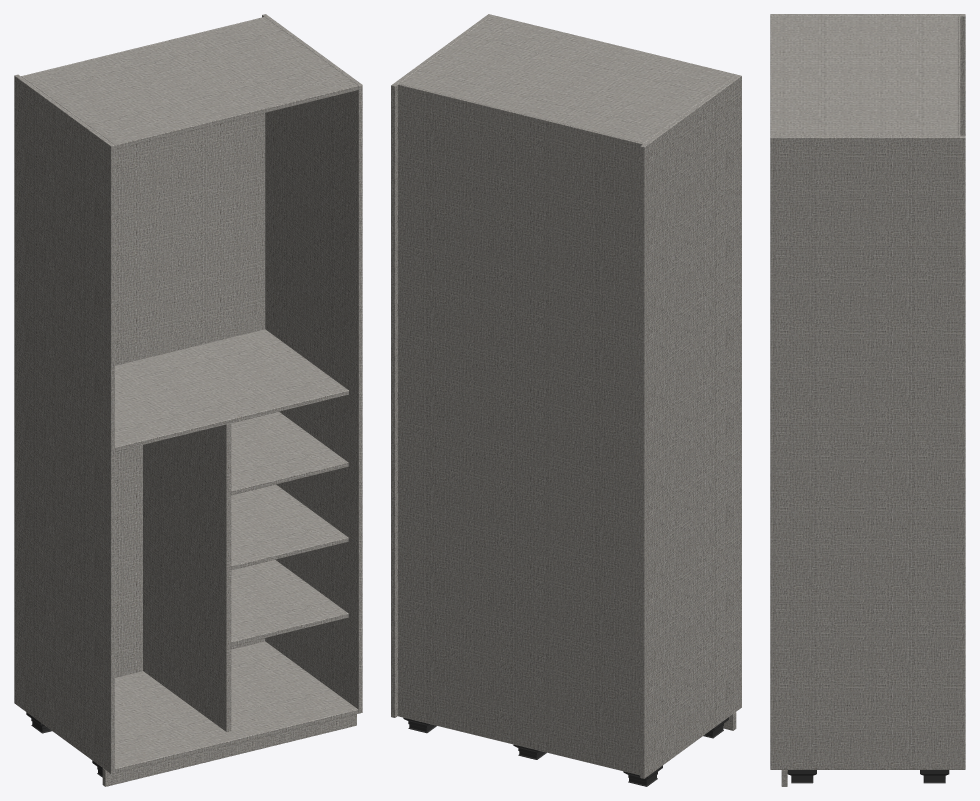
Rendered from cbib12150.gltf.
3 renders of one model, left to right at view 1: azimuth 30°, elevation 25°; view 2: azimuth 150°, elevation 25°; view 3: azimuth 270°, elevation 25°, orthographic.
Visible parts, largest first — view 1: CBIB12150; view 2: CBIB12150; view 3: CBIB12150.
Boxes of the visible parts, <box> form: CBIB12150: <box>14,14,362,786</box>; CBIB12150: <box>391,14,741,786</box>; CBIB12150: <box>770,14,965,786</box>.
Bounding box in the file's own units: 0.9 × 2.2 × 0.6.
3 materials, 2 textured.
